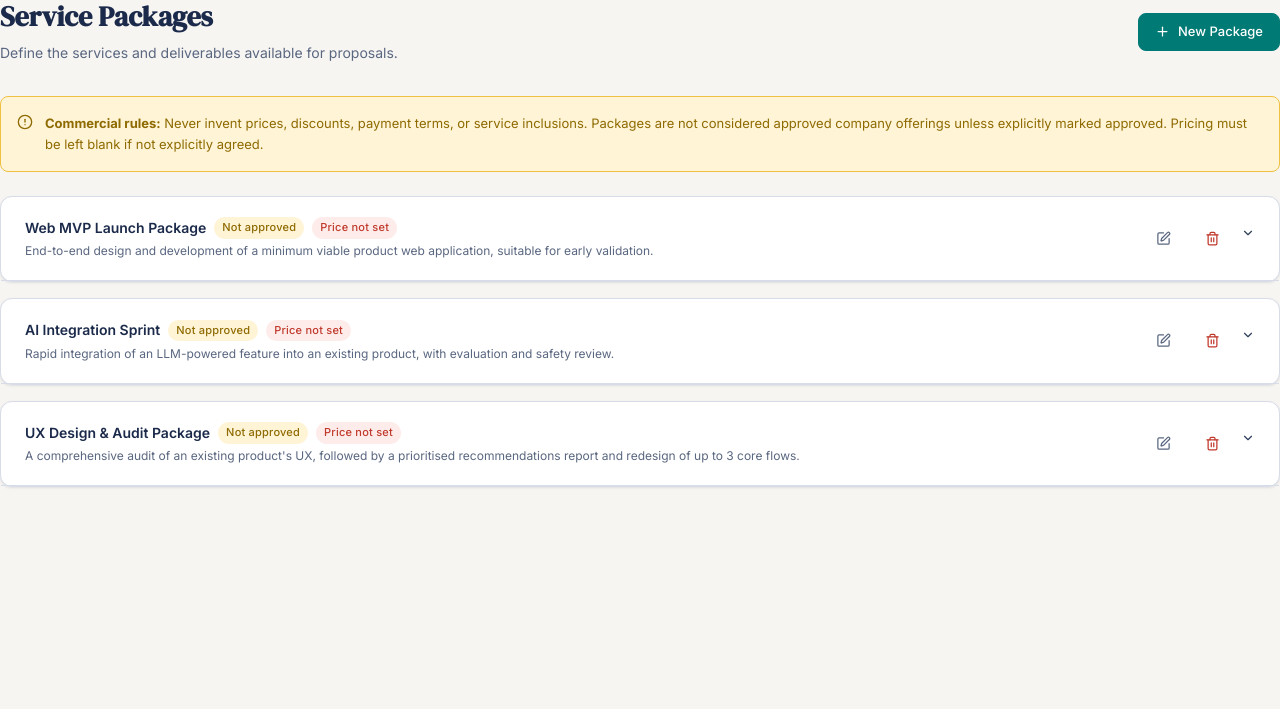
Test: Packages Component › toggles new package form when New Package button is clicked
Click the button "New Package". click: [1209, 32]
box: [1138,13,1279,51]
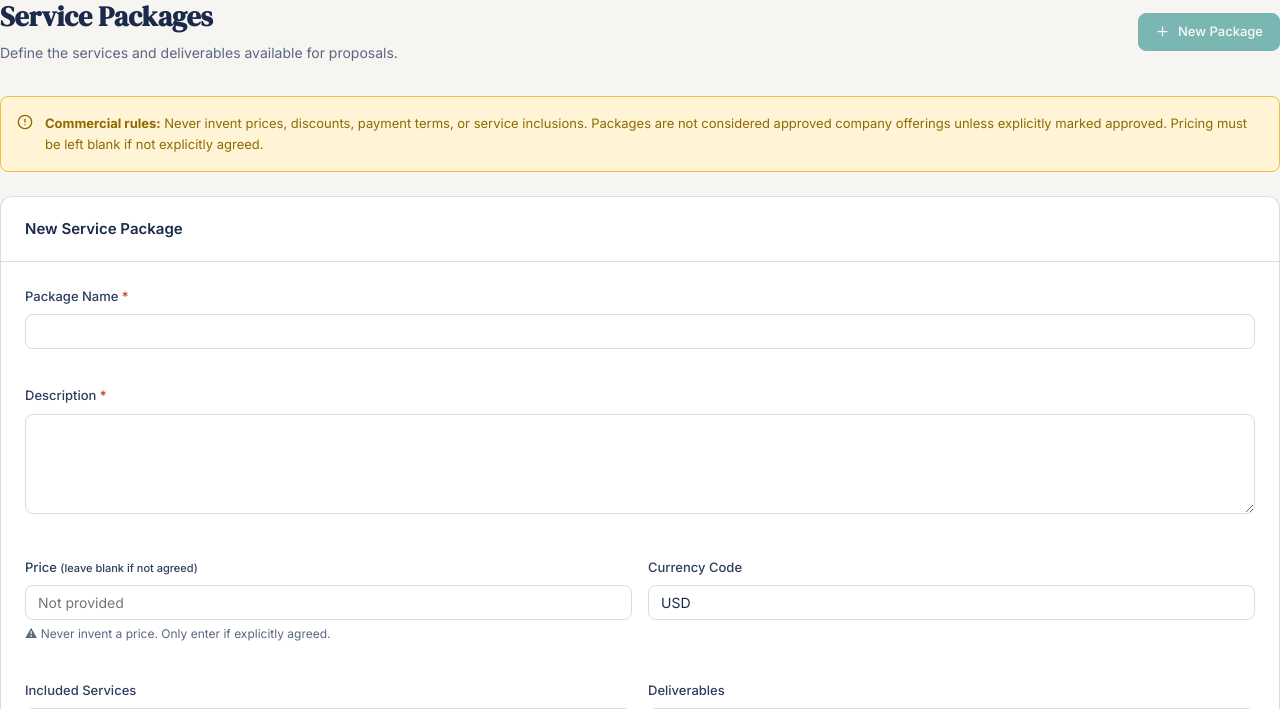
Expected: the field labelled "Package Name" is shown, [25,314,1255,349]
Expected: the text "⚠ Never invent a price. Only enter if explicitly agreed." is shown, [25,626,331,641]
